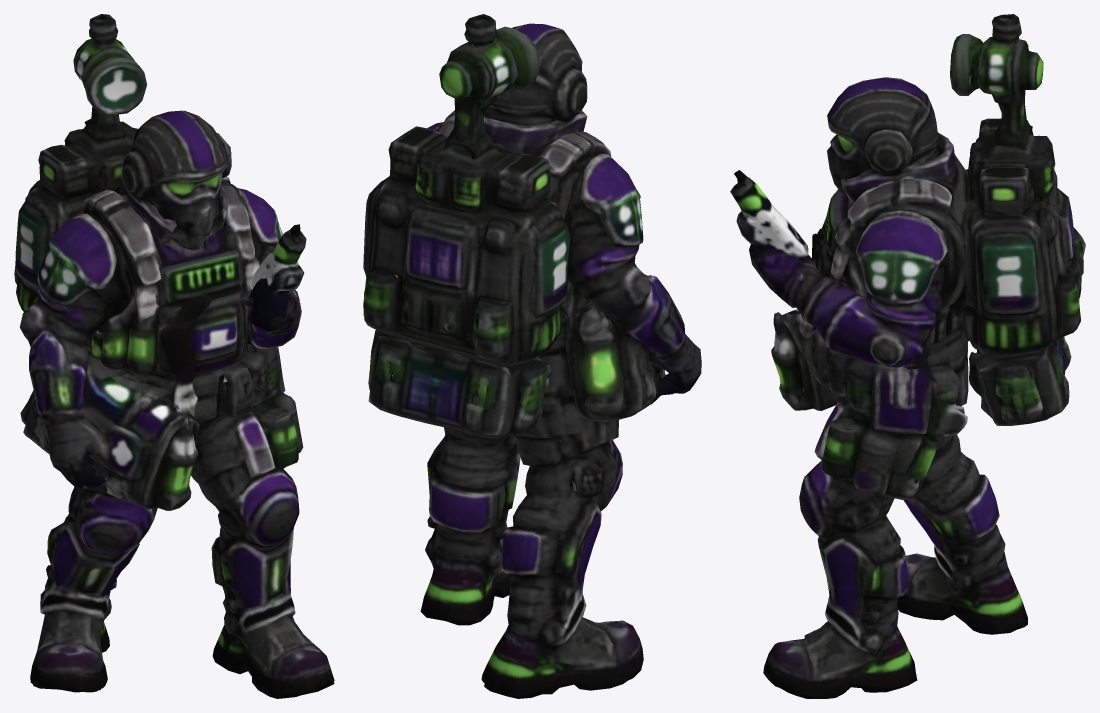
The model's file is medic_l05.glb.
3 renders of one model, left to right at view 1: azimuth 30°, elevation 25°; view 2: azimuth 150°, elevation 25°; view 3: azimuth 270°, elevation 25°, orthographic. The views are drawn at different scales.
Visible parts, largest first — view 1: world; view 2: world; view 3: world.
Boxes of the visible parts, left/top/right/bottom form: world: left=14, top=14, right=334, bottom=698; world: left=363, top=14, right=701, bottom=698; world: left=730, top=14, right=1085, bottom=698.
Size of the model in its own units: 0.4442 by 1 by 0.5183.
Materials: 1 (1 with a texture image).
